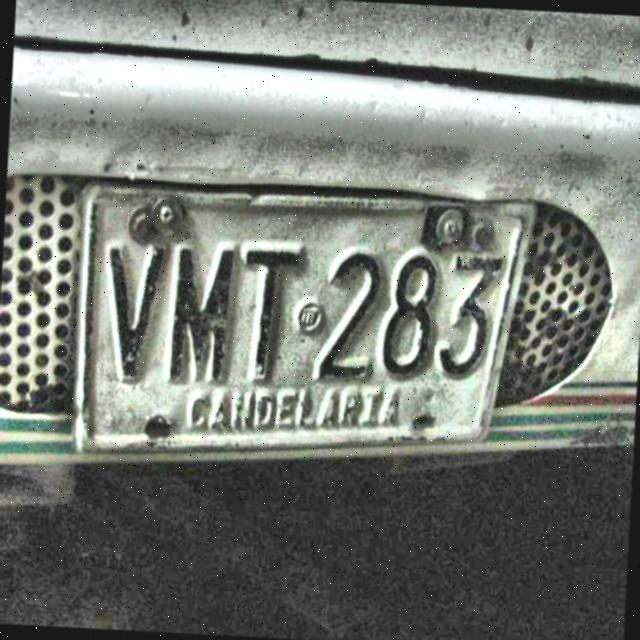plate: (84, 196, 527, 445)
